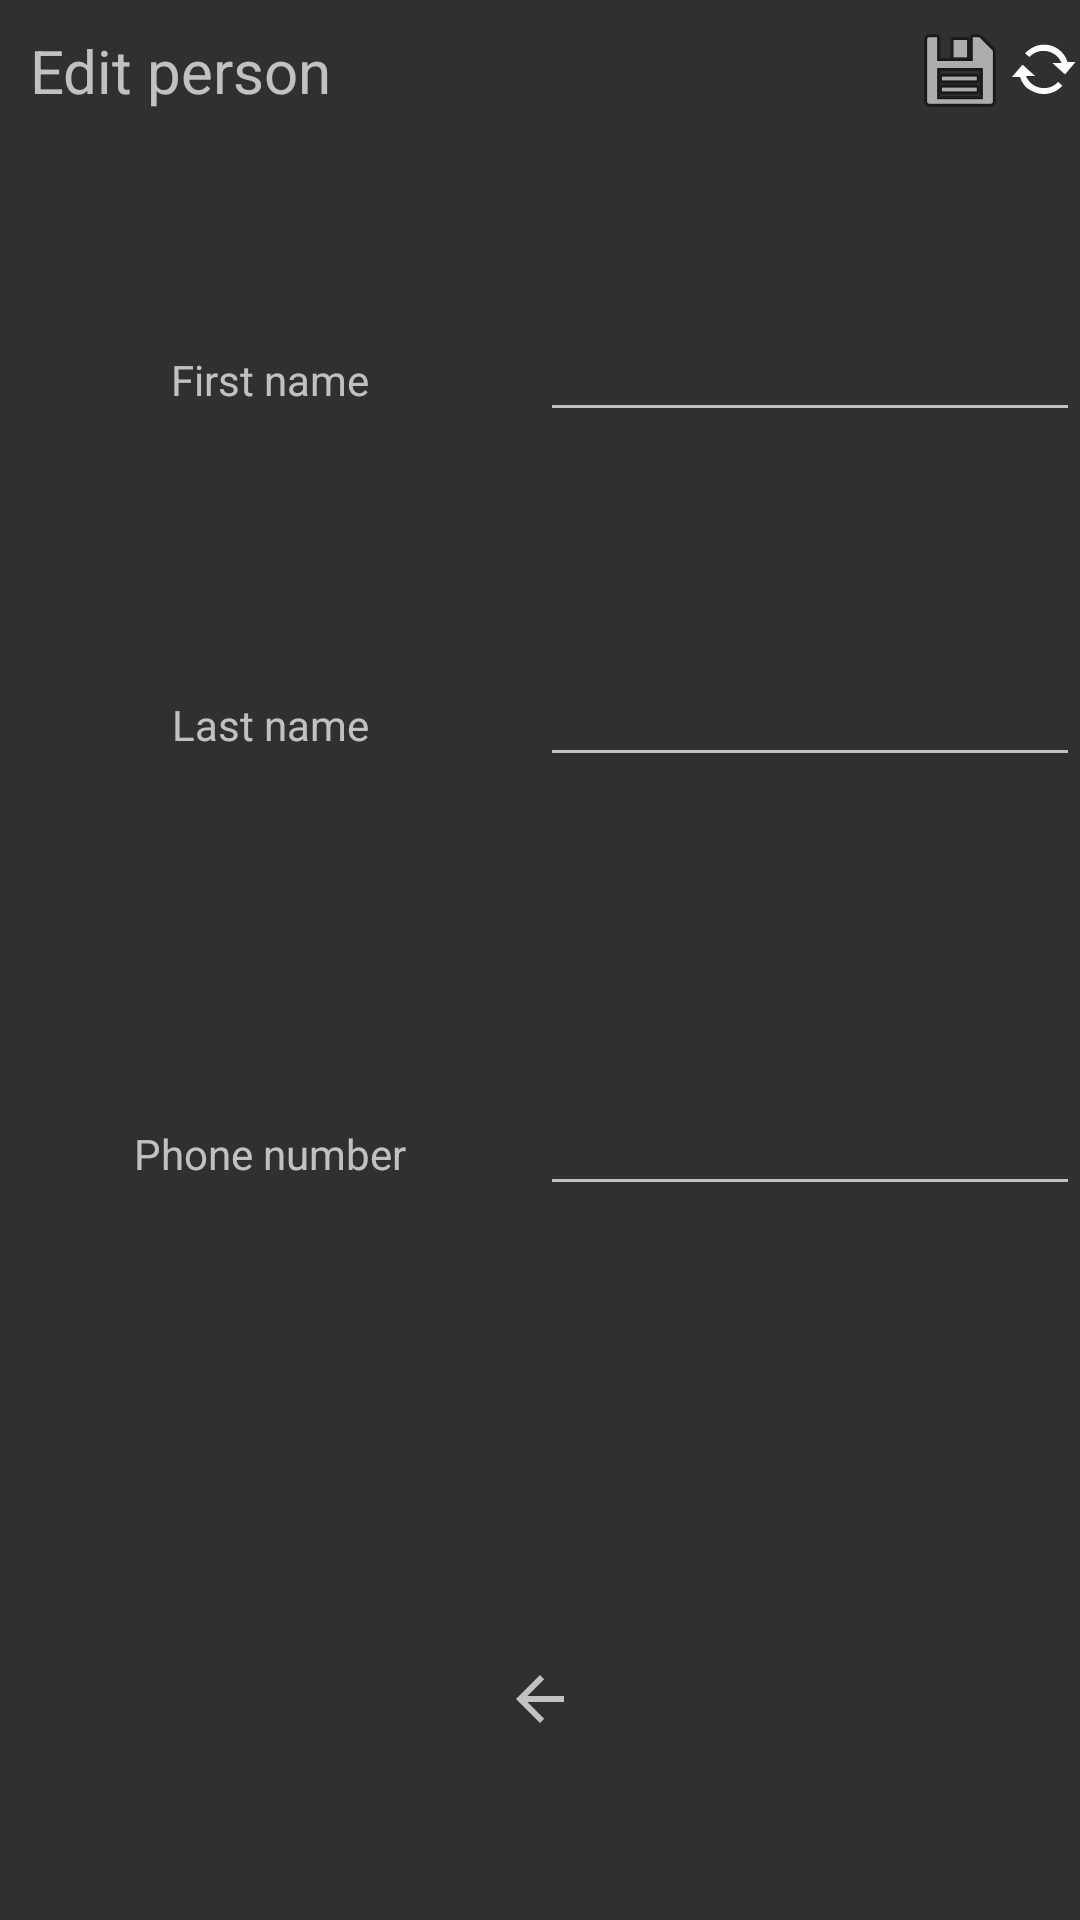

Icons on this 1080×1920 Android screen, each with its box as (x1, y1, x2, y2):
save: (926, 36, 994, 105)
sync: (1012, 44, 1076, 94)
